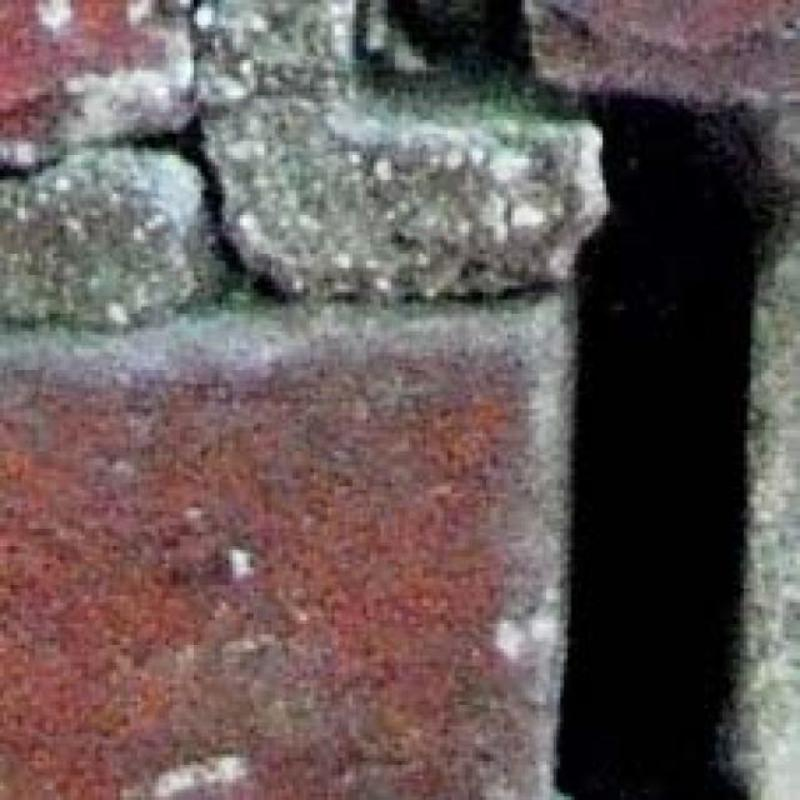pothole: (389, 0, 762, 800), (130, 112, 286, 300)
